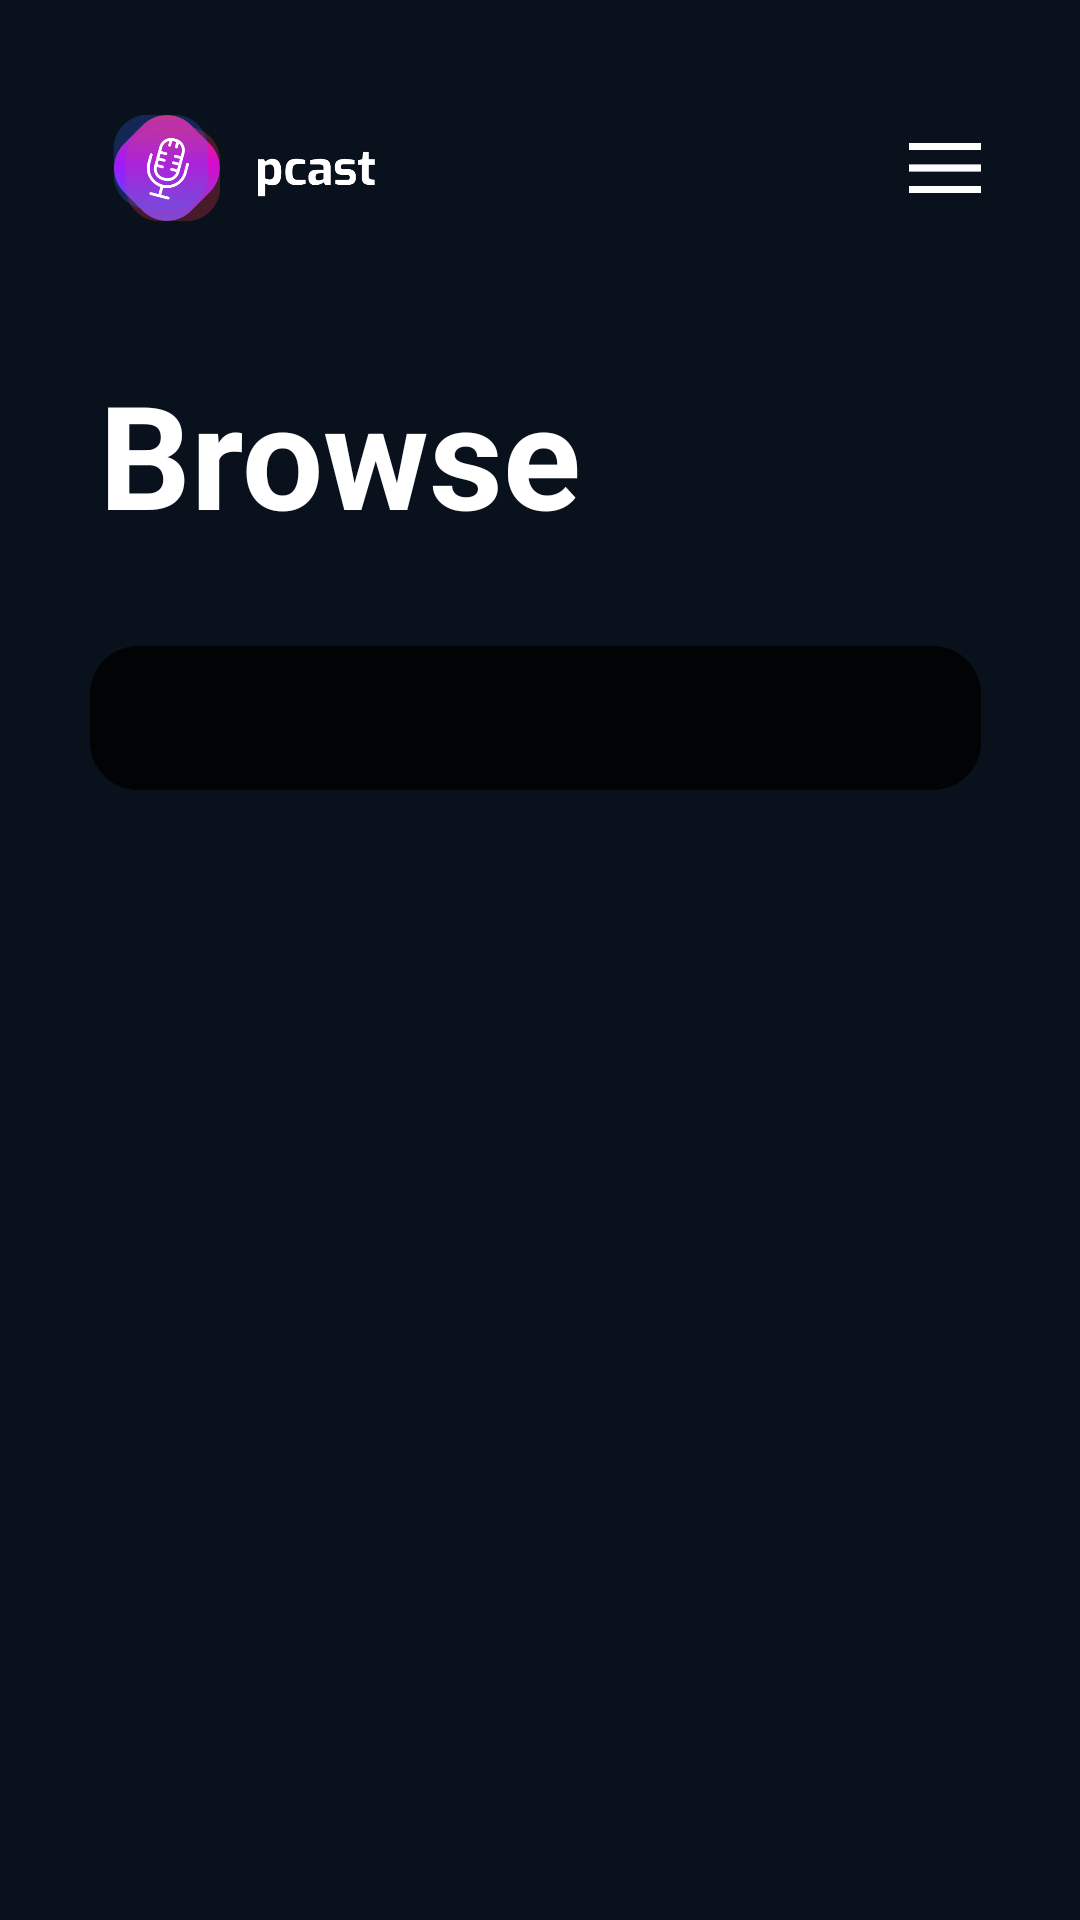

Point at icon controls on the screen. Image size 1080w x 1920h, points as (x=x, y=y).
hamburger menu: (x=945, y=168)
